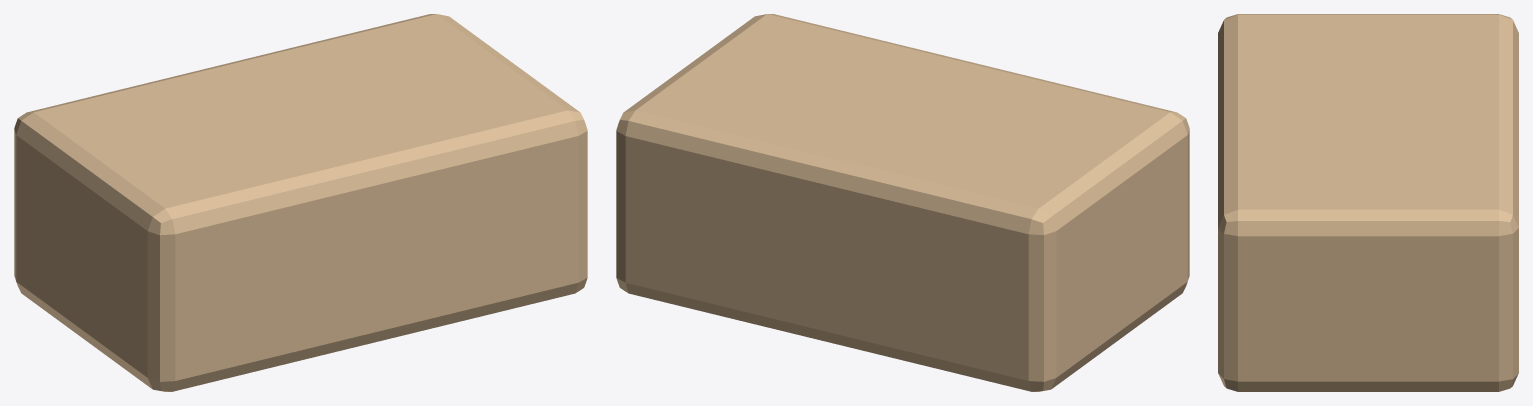
Rendered from wood_block.glb.
The picture shows the model from 3 angles, left to right: view 1: azimuth 30°, elevation 25°; view 2: azimuth 150°, elevation 25°; view 3: azimuth 270°, elevation 25°; orthographic projection.
Visible parts, largest first — view 1: wood; view 2: wood; view 3: wood.
Boxes of the visible parts, x1,y1,x2,y2 form: wood: (14,14,587,391); wood: (616,14,1189,391); wood: (1218,14,1518,391).
Size of the model in its own units: 0.05 by 0.02 by 0.03.
